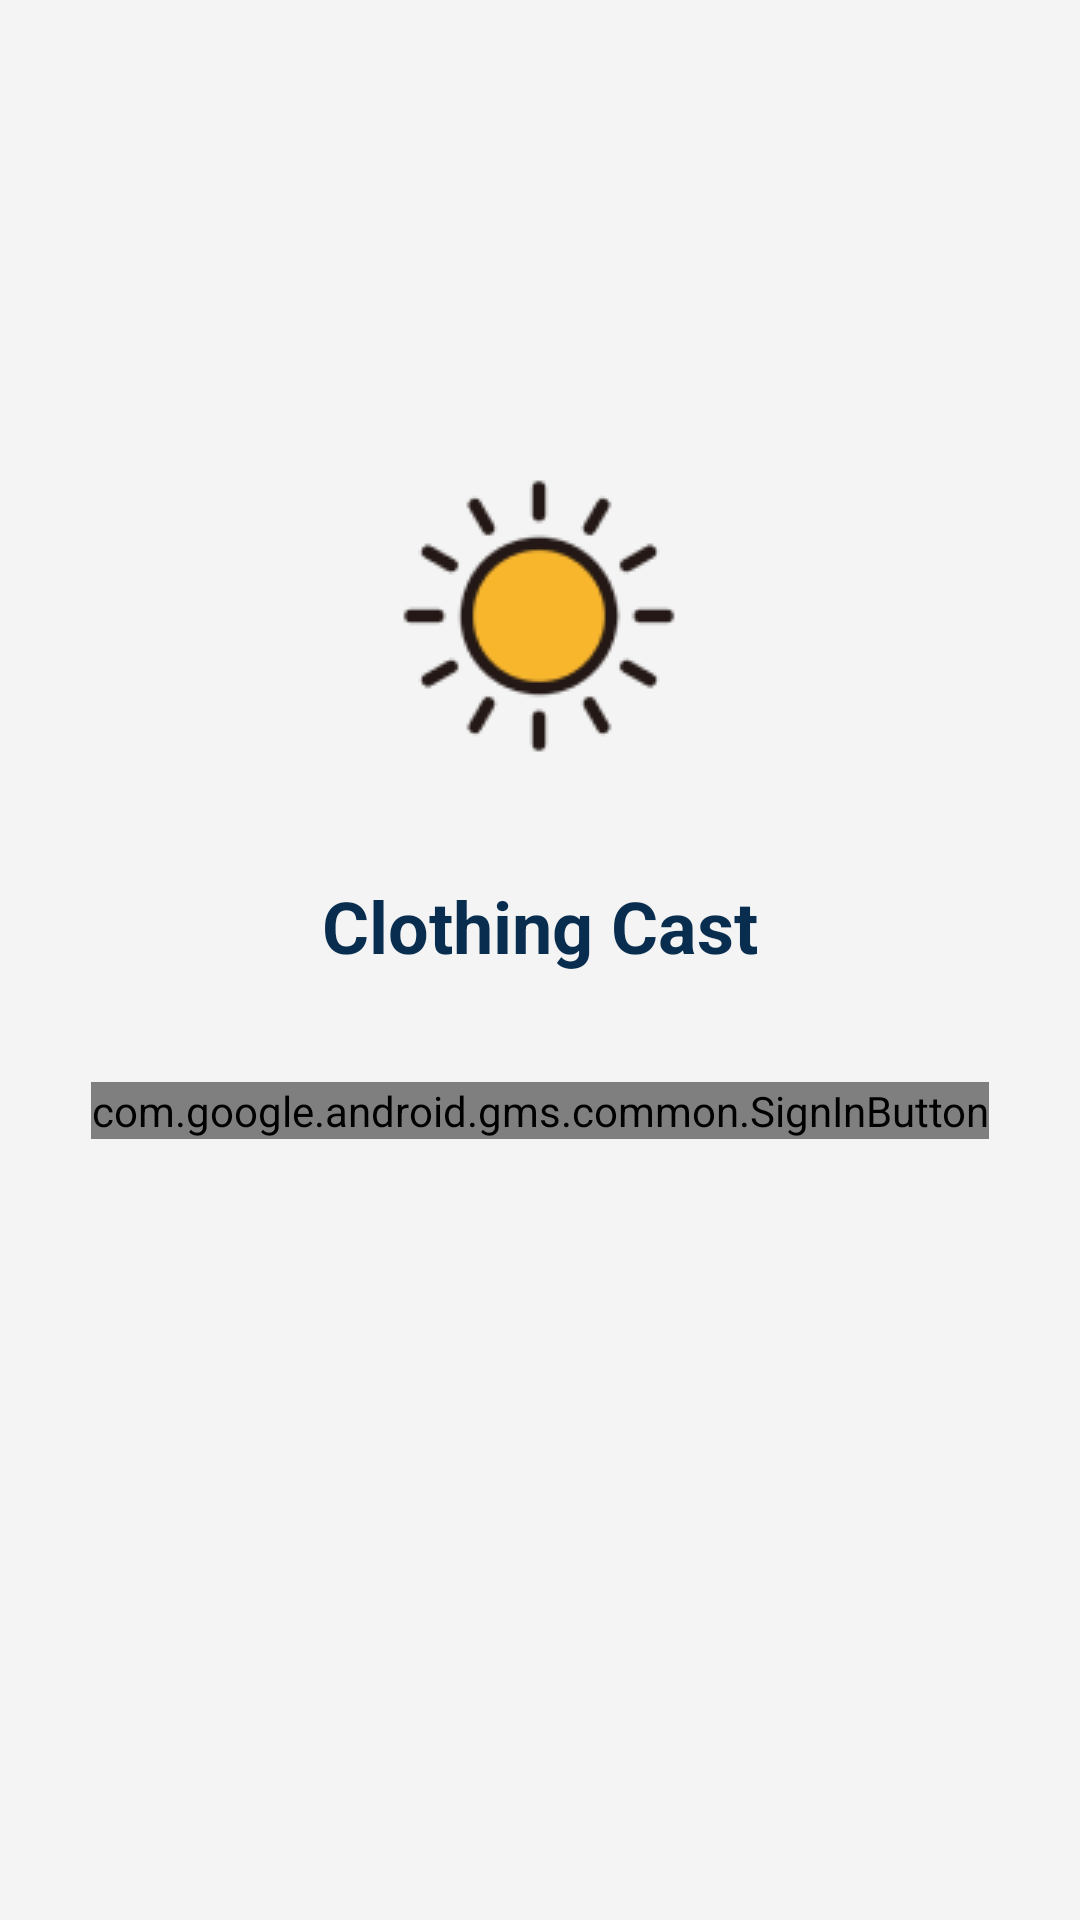

Icon click points for this 1080px×1920px phone screenshot, format [x,y]:
sun: [539,616]
